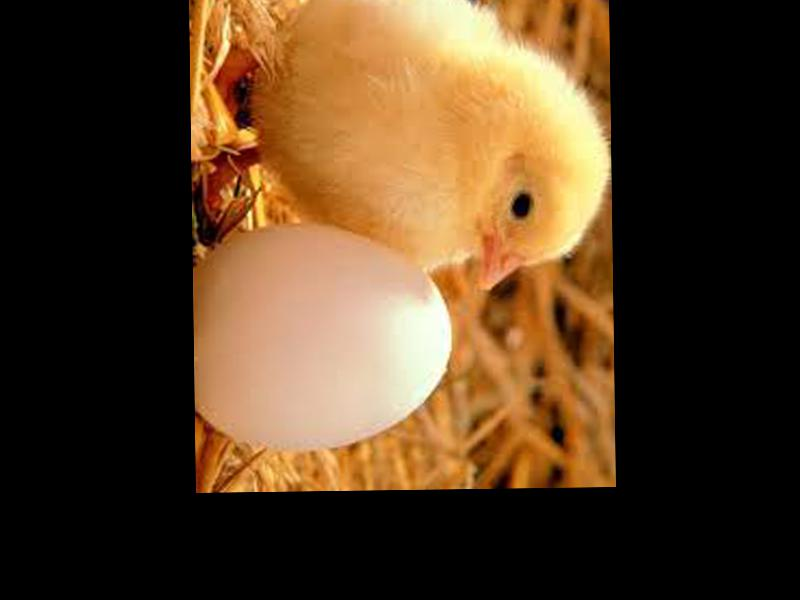Eggs: (191, 220, 454, 451)
